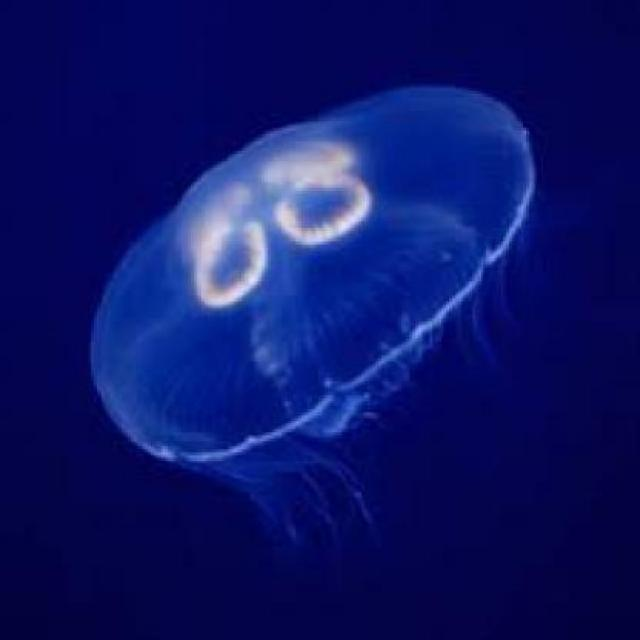Jellyfish: (70, 79, 544, 461)
